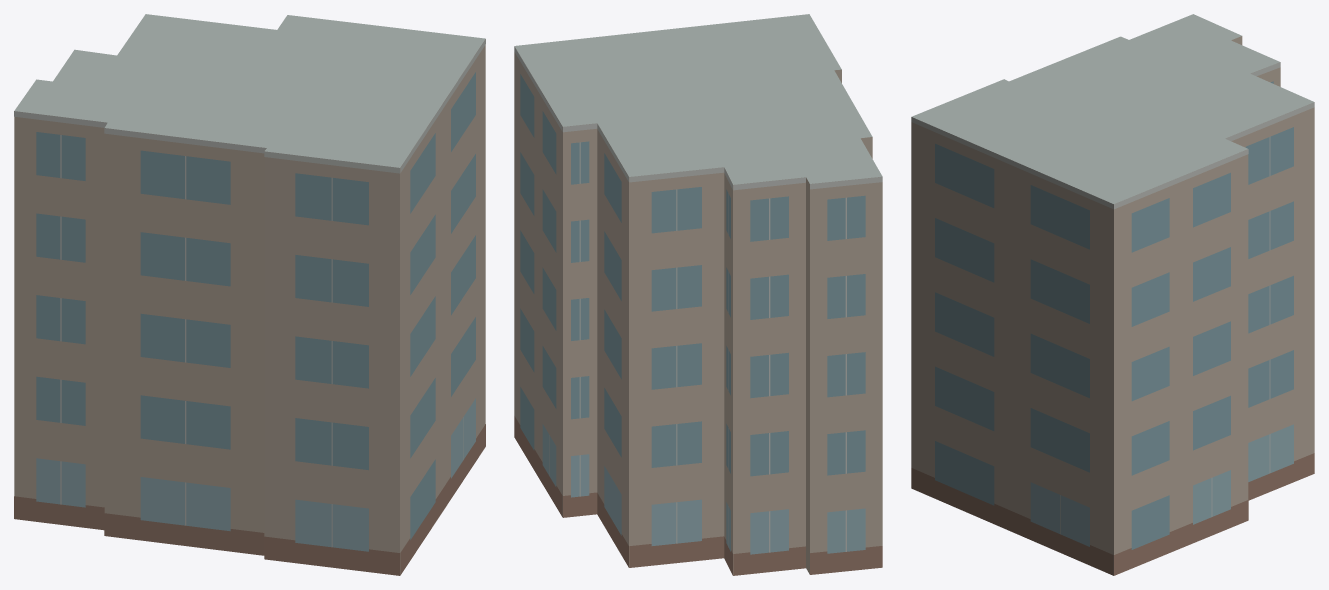
The model's file is survey-upis-32590274.glb.
3 views of the same model, side by side, from view 1: azimuth 30°, elevation 25°; view 2: azimuth 150°, elevation 25°; view 3: azimuth 270°, elevation 25° (orthographic). The views are drawn at different scales.
Visible parts, largest first — view 1: survey-upis-32590274.tmp; view 2: survey-upis-32590274.tmp; view 3: survey-upis-32590274.tmp.
Part boxes in pixels (x1,y1,x2,y2): survey-upis-32590274.tmp: [14, 14, 485, 575]; survey-upis-32590274.tmp: [514, 14, 882, 575]; survey-upis-32590274.tmp: [911, 14, 1314, 575].
Bounding box in the file's own units: 19.22 × 17.5 × 17.22.
